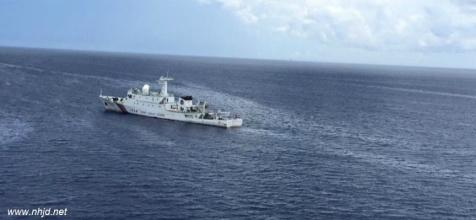warship: (92, 75, 246, 130)
